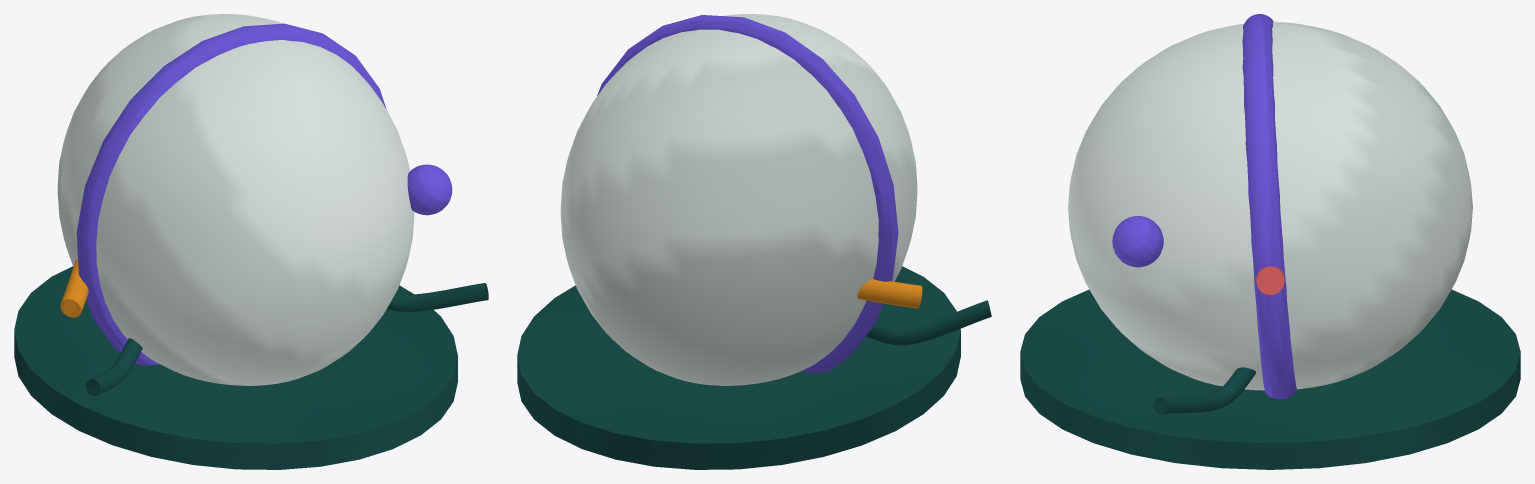
File: 0426_微生物图鉴_大肠杆菌噬菌体.glb
3 views of the same model, side by side, from view 1: azimuth 30°, elevation 25°; view 2: azimuth 150°, elevation 25°; view 3: azimuth 270°, elevation 25° (orthographic).
Parts seen in each view (by area): view 1: card_0426; view 2: card_0426; view 3: card_0426.
Part boxes in pixels (left/top/right/bottom): card_0426: left=14, top=14, right=488, bottom=469; card_0426: left=517, top=14, right=991, bottom=469; card_0426: left=1020, top=14, right=1520, bottom=469.
Size of the model in its own units: 1.18 by 1 by 1.25.
